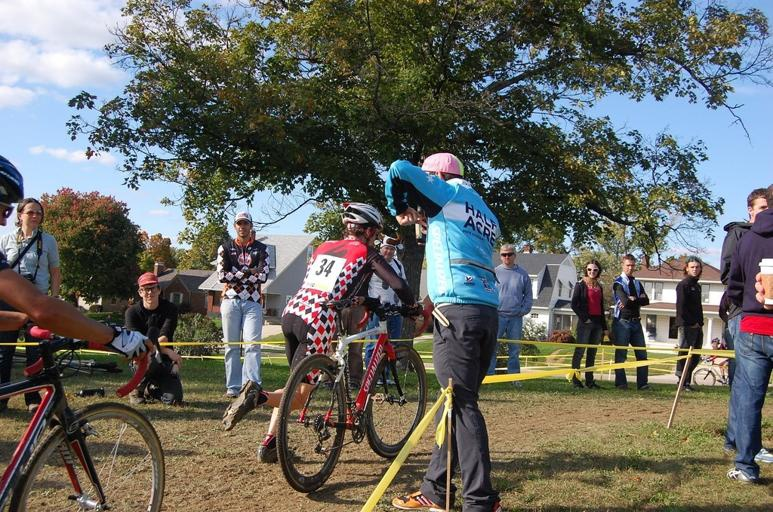non-vehicle: (0, 316, 167, 511), (271, 296, 431, 496), (0, 350, 124, 377), (691, 355, 729, 387)
